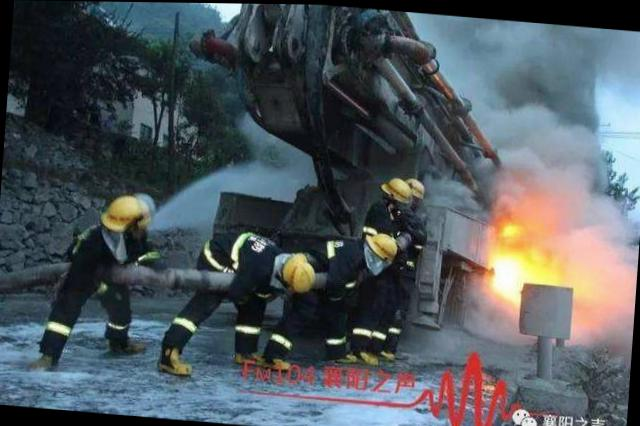fire: (482, 214, 568, 303)
